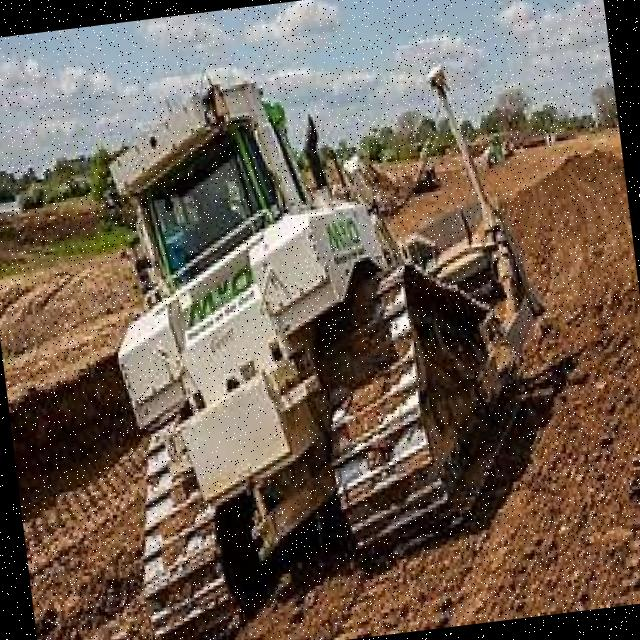Bulldozer: (47, 0, 597, 640)
